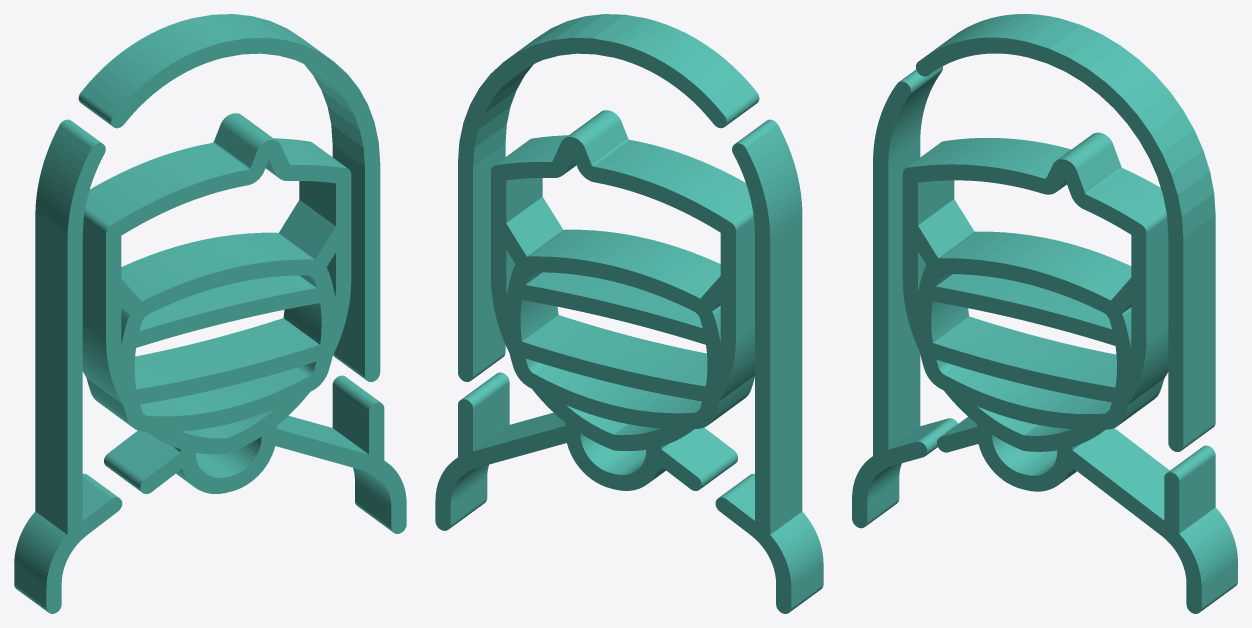
The model's file is CovBot.gltf.
The picture shows the model from 3 angles, left to right: view 1: azimuth 30°, elevation 25°; view 2: azimuth 150°, elevation 25°; view 3: azimuth 330°, elevation 25°; orthographic projection.
Size of the model in its own units: 5.72 by 8.14 by 1.02.
